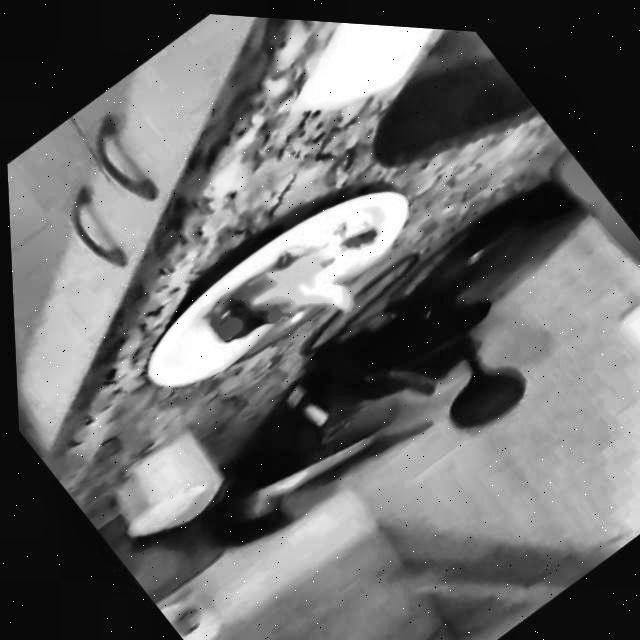Fire: (186, 215, 366, 387)
